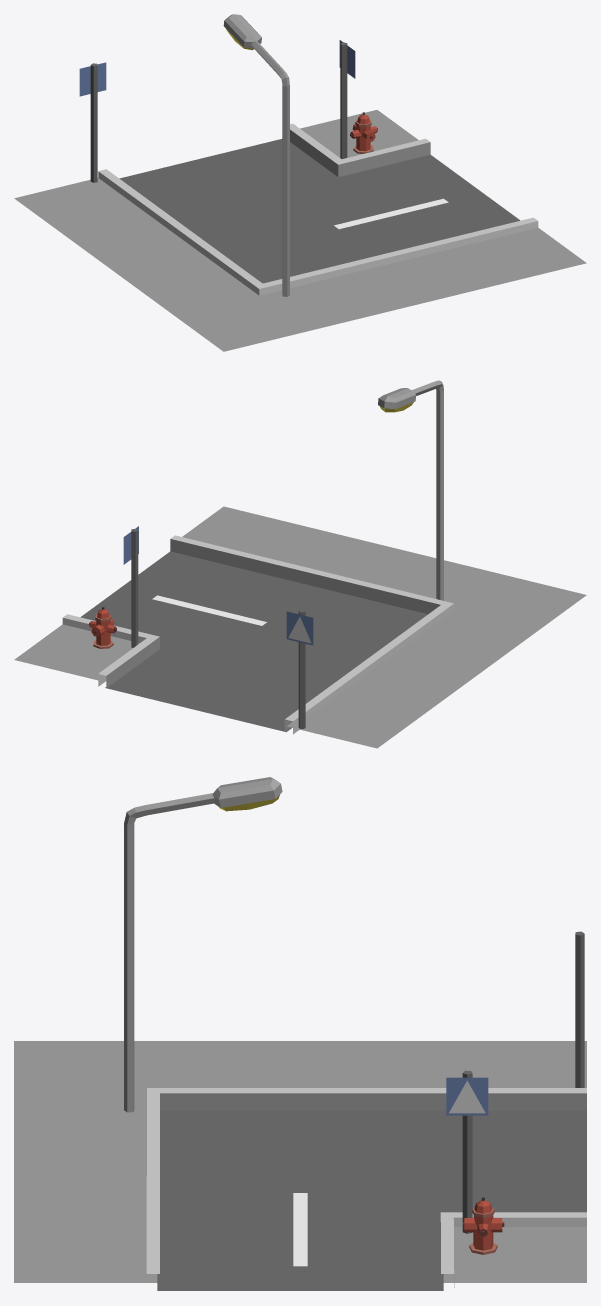
File: street-turn.glb
The picture shows the model from 3 angles, top to bottom: view 1: azimuth 30°, elevation 25°; view 2: azimuth 150°, elevation 25°; view 3: azimuth 270°, elevation 25°; orthographic projection. The views are drawn at different scales.
Visible parts, largest first — view 1: road_tile_1x1_11; view 2: road_tile_1x1_11; view 3: road_tile_1x1_11.
Part boxes in pixels (x1,y1,x2,y2): road_tile_1x1_11: (14,14,586,351); road_tile_1x1_11: (14,380,586,748); road_tile_1x1_11: (14,777,586,1290).
Size of the model in its own units: 8 by 5.25 by 8.
1 material, 1 textured.
